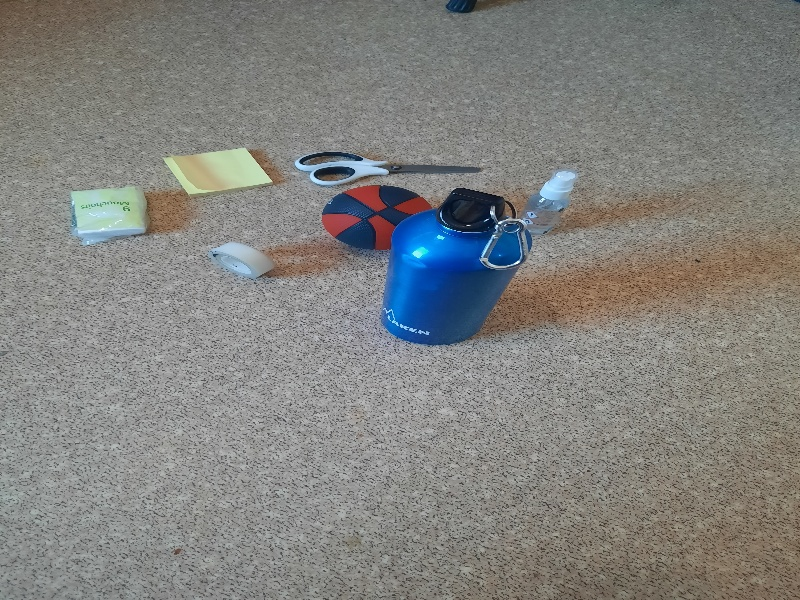ballon: (321, 187, 435, 248)
ciseaux: (293, 148, 495, 182)
gel: (517, 170, 579, 236)
gourde: (379, 187, 531, 344)
mouchoirs: (65, 187, 155, 241)
post-it: (159, 147, 280, 196)
scotch: (209, 240, 276, 280)
